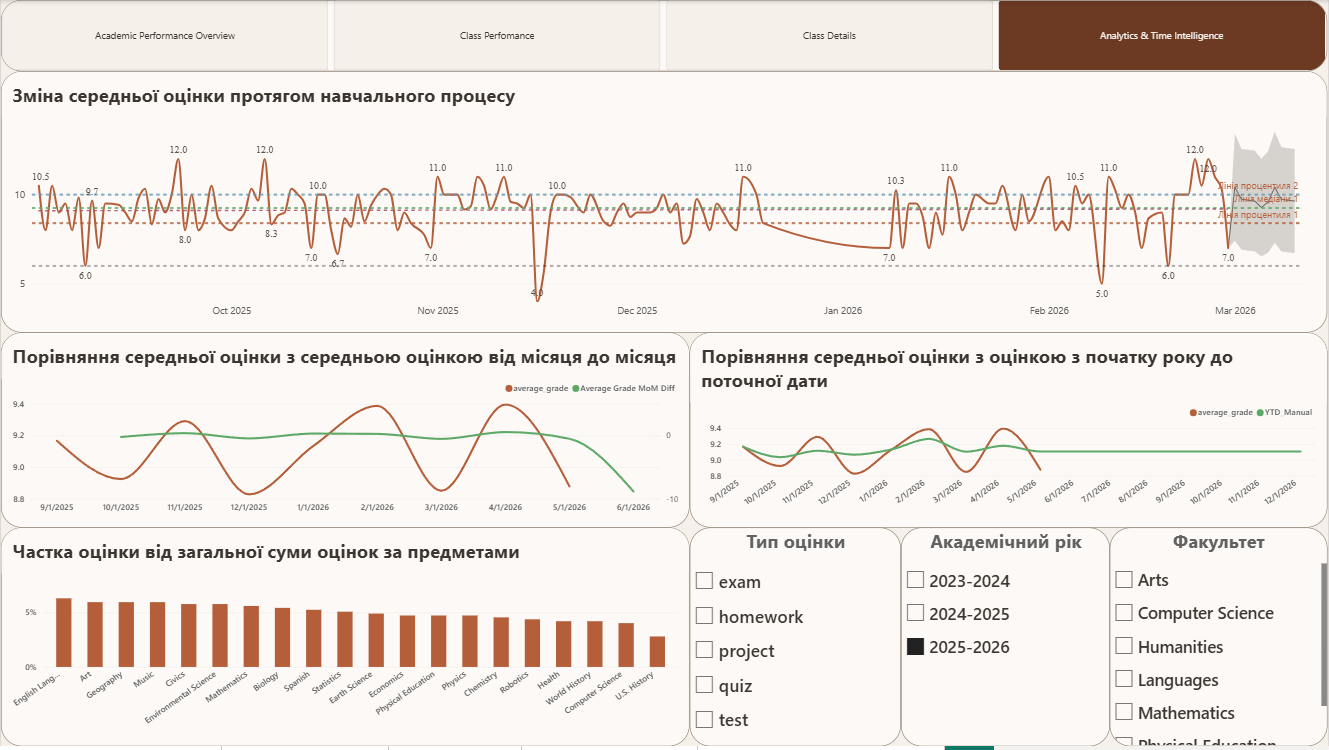

The page's visual inventory and layout, read from the dashboard file:
{"tool":"powerbi","page":{"name":"Analytics & Time Intelligence","canvas":[1920,1080],"ordinal":4},"visuals":[{"type":"lineChart","title":"Зміна середньої оцінки протягом навчального процесу","fields":{"Category":["calendar.Date.Варіація.Ієрархія дат.Рік"],"Y":["Avg(grades.grade_value)"]},"box":[0,103.2,1920.1,378.2],"z":0},{"type":"clusteredColumnChart","title":"Частка оцінки від загальної суми оцінок за предметами","fields":{"Category":["subjects.subject_name"],"Y":["CountNonNull(grades.grade_id)"]},"box":[0,763.7,997.1,316.7],"z":1000},{"type":"lineChart","title":"Порівняння середньої оцінки з середньою оцінкою від місяця до місяця","fields":{"Category":["calendar.Year-Month"],"Y":["_Measures.average_grade"],"Y2":["_Measures.Average Grade MoM Diff"]},"box":[0,481.4,997.1,282.3],"z":3000},{"type":"lineChart","title":"Порівняння середньої оцінки з оцінкою з початку року до поточної дати","fields":{"Category":["calendar.Year-Month"],"Y":["_Measures.average_grade","_Measures.YTD_Manual"]},"box":[997.1,481.4,922.9,282.3],"z":3001},{"type":"slicer","fields":{"Values":["grades.grade_type"]},"box":[997.1,763.7,305.8,316.7],"z":3002},{"type":"slicer","fields":{"Values":["periods.academic_year"]},"box":[1303,763.7,302.2,316.7],"z":3003},{"type":"slicer","fields":{"Values":["subjects.department_hint"]},"box":[1605.2,763.7,314.9,316.7],"z":3004},{"type":"pageNavigator","box":[0,0,1920.1,103.2],"z":3005}]}

Visuals, with their boxes in screenshot pixels (x1, y1, x2, y2), scaled from the page's 1920x1080 canvas onto the 1329x750 screenshot:
"Зміна середньої оцінки протягом навчального процесу" lineChart: [0, 72, 1328, 334]
"Частка оцінки від загальної суми оцінок за предметами" clusteredColumnChart: [0, 530, 690, 749]
"Порівняння середньої оцінки з середньою оцінкою від місяця до місяця" lineChart: [0, 334, 690, 530]
"Порівняння середньої оцінки з оцінкою з початку року до поточної дати" lineChart: [690, 334, 1328, 530]
slicer - grades.grade_type: [690, 530, 902, 749]
slicer - periods.academic_year: [902, 530, 1111, 749]
slicer - subjects.department_hint: [1111, 530, 1328, 749]
pageNavigator: [0, 0, 1328, 72]
